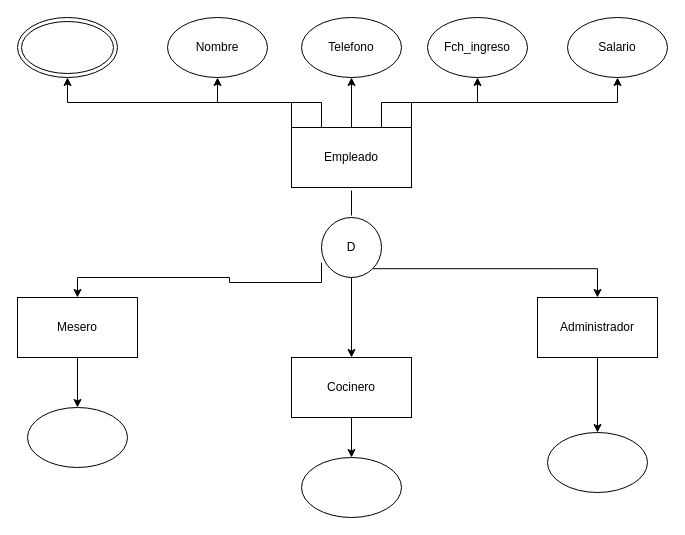
This 685x535 diagram has some shape labels left out. Each missing label, with the centre of its shape:
Especialidad: point 351,487
id_empleado: point 67,47
Nvl_permiso: point 597,462
Prj_propinas: point 77,437
